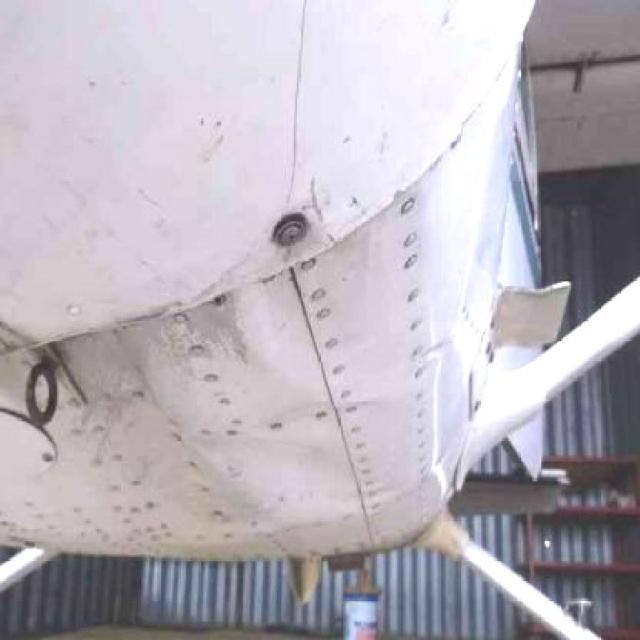dent: (240, 254, 349, 394), (217, 423, 346, 520)
